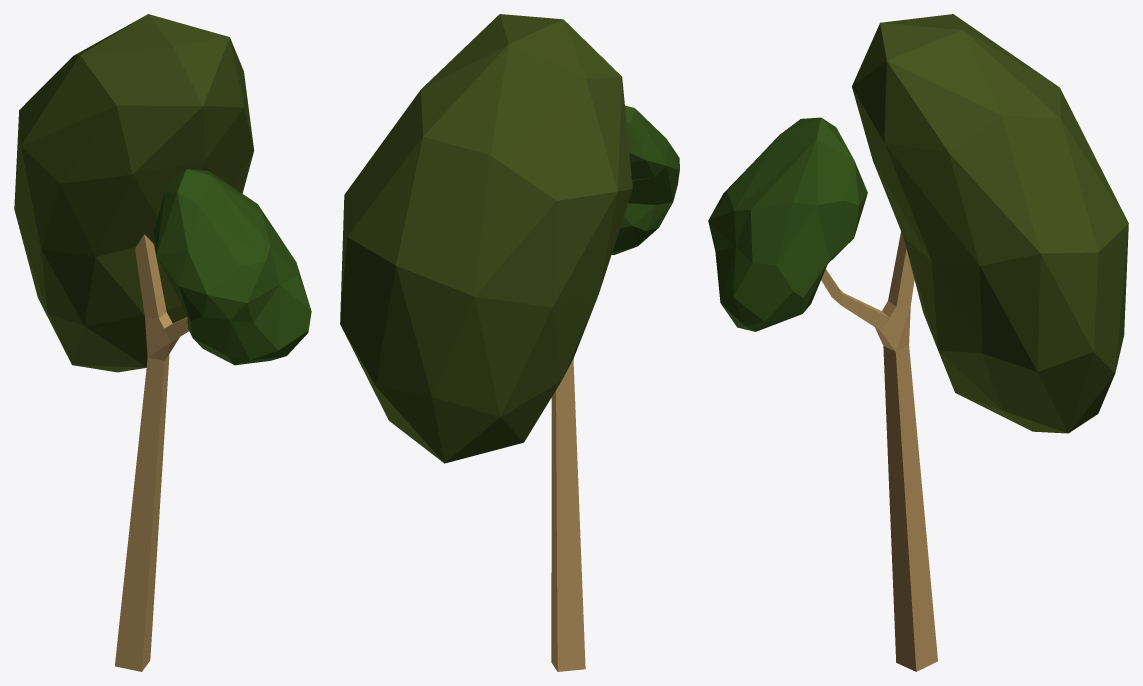
Rendered from Tree.001.fbx.
3 views of the same model, side by side, from view 1: azimuth 30°, elevation 25°; view 2: azimuth 150°, elevation 25°; view 3: azimuth 270°, elevation 25° (orthographic). The views are drawn at different scales.
Visible parts, largest first — view 1: Tree.001; view 2: Tree.001; view 3: Tree.001.
Boxes of the visible parts, x1,y1,x2,y2 form: Tree.001: [14, 14, 311, 671]; Tree.001: [340, 14, 679, 671]; Tree.001: [708, 14, 1128, 671].
Bounding box in the file's own units: 441 × 1080 × 631.
